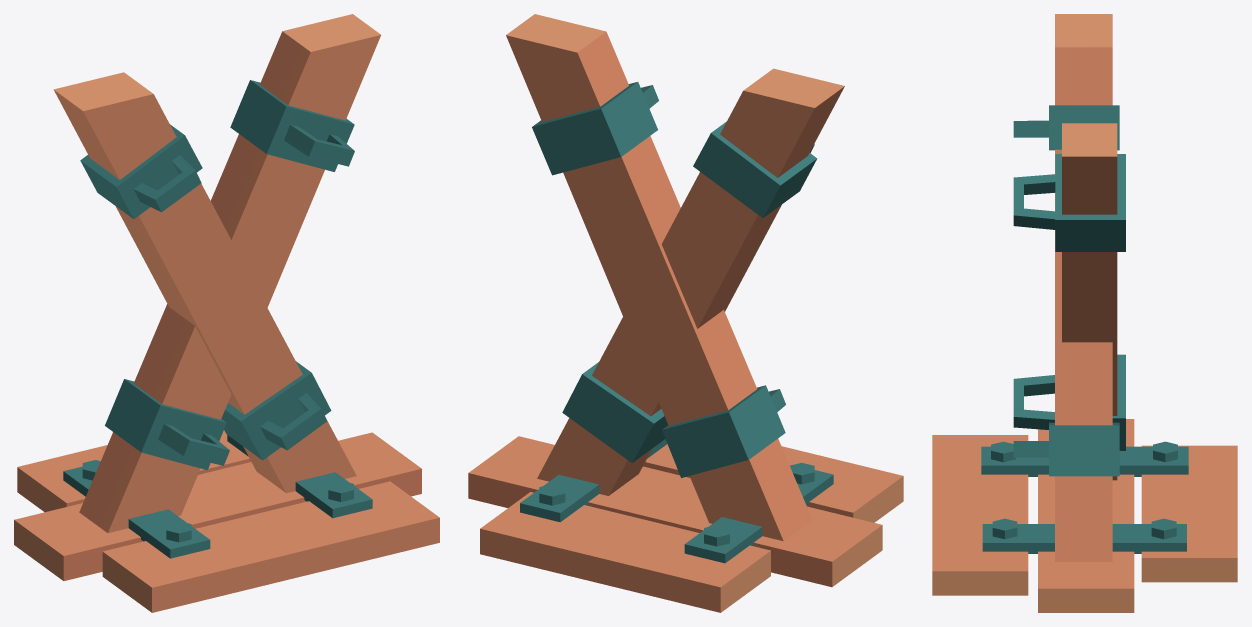
File: torture4.fbx
3 views of the same model, side by side, from view 1: azimuth 30°, elevation 25°; view 2: azimuth 150°, elevation 25°; view 3: azimuth 270°, elevation 25° (orthographic). The views are drawn at different scales.
Visible parts, largest first — view 1: torture4; view 2: torture4; view 3: torture4.
Boxes of the visible parts, x1,y1,x2,y2 form: torture4: (14, 14, 439, 612); torture4: (468, 14, 903, 612); torture4: (932, 14, 1237, 612).
Bounding box in the file's own units: 168 × 205 × 128.
